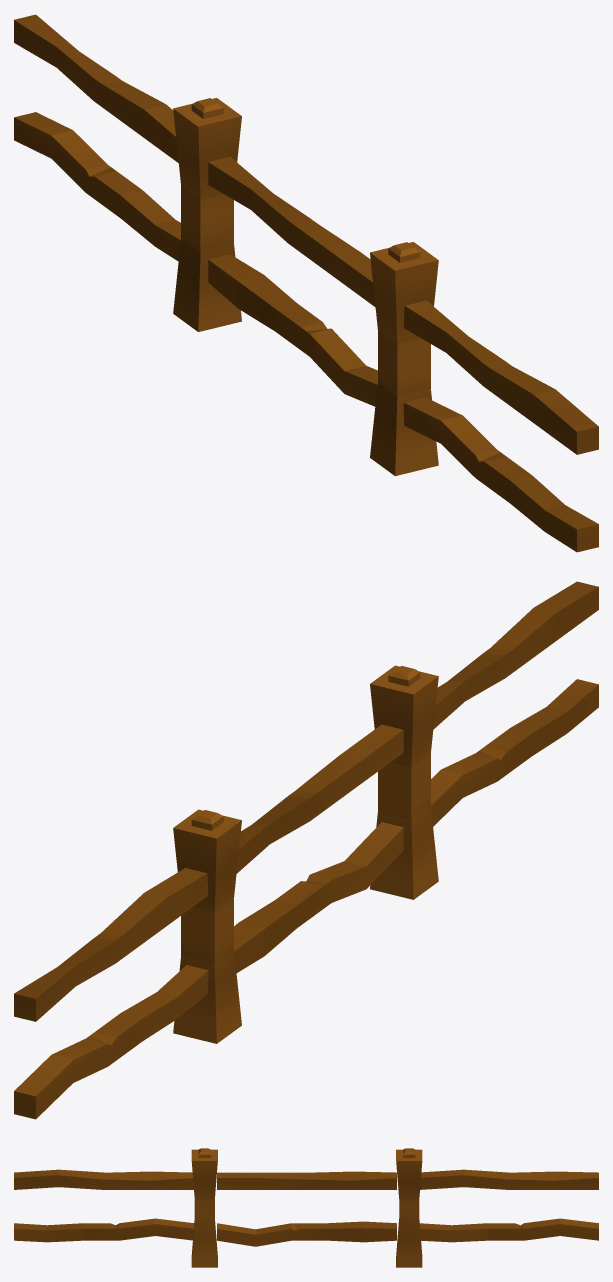
File: fence_full_sides.fbx
The picture shows the model from 3 angles, top to bottom: view 1: azimuth 30°, elevation 25°; view 2: azimuth 150°, elevation 25°; view 3: azimuth 270°, elevation 25°; orthographic projection. The views are drawn at different scales.
Visible parts, largest first — view 1: Fence_Full Both Sides EXP; view 2: Fence_Full Both Sides EXP; view 3: Fence_Full Both Sides EXP.
Part boxes in pixels (box(x1,y1,x2,y2)): Fence_Full Both Sides EXP: box(14, 14, 598, 552); Fence_Full Both Sides EXP: box(14, 581, 598, 1119); Fence_Full Both Sides EXP: box(14, 1148, 598, 1267).
Bounding box in the file's own units: 22.28 × 105 × 497.
Materials: 1 (1 with a texture image).
